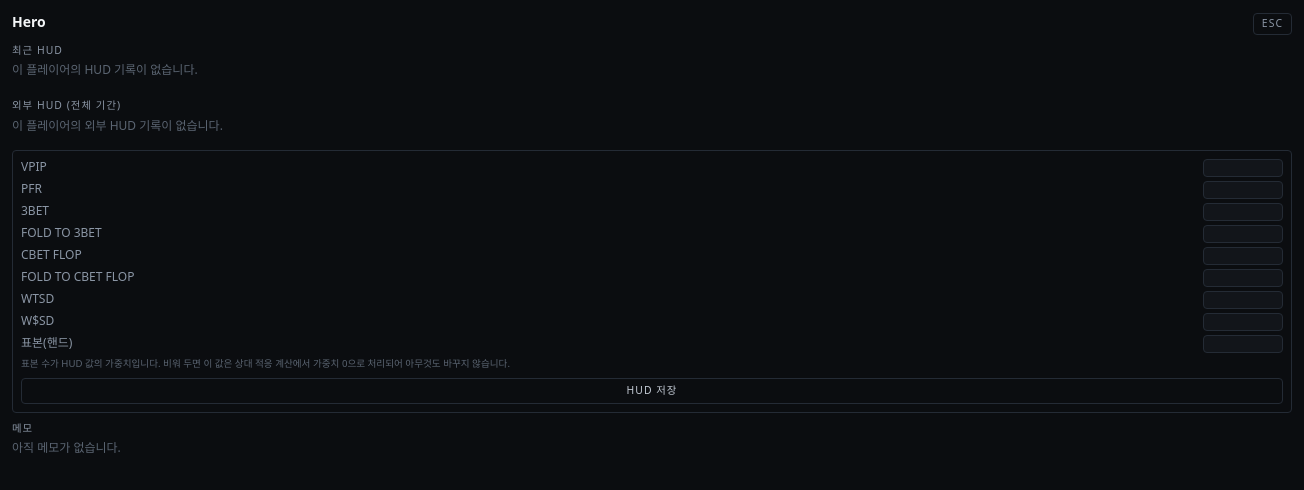
PlayerProfilePanel › shows an inline error and does not lose the entered text on a validation failure
expect the form with test id "hud-edit-form" is shown: met, box [12, 150, 1292, 413]
Type "nope" into the field with test id "hud-input-VPIP".
click(1243, 168); type("nope")  # box [1203, 159, 1283, 177]
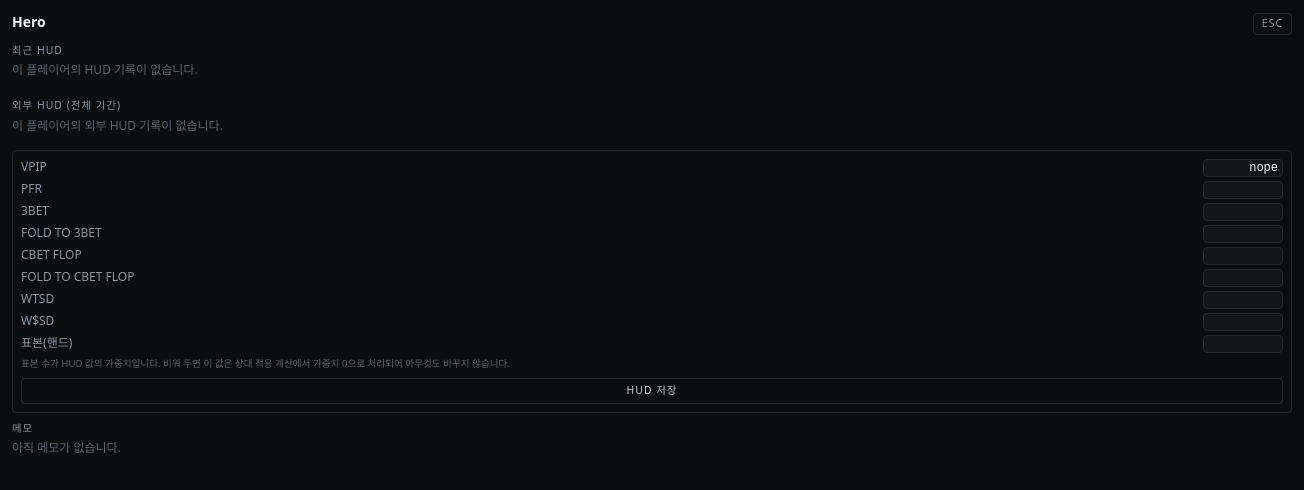
Click the button with test id "hud-save-button".
click(652, 391)  # box [21, 378, 1283, 404]
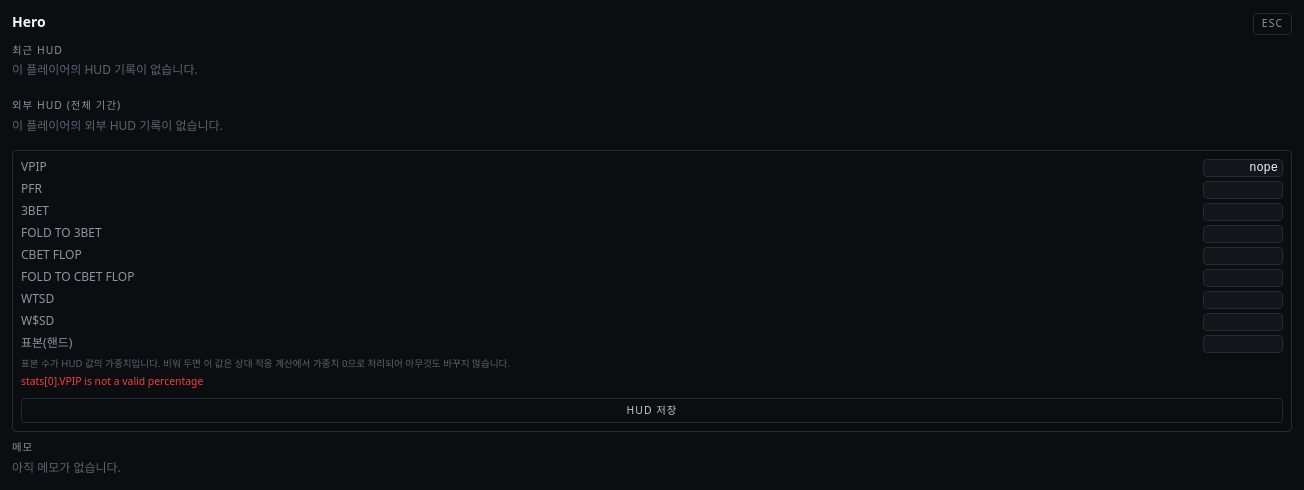
expect the text with test id "hud-error" shows "valid percentage": met, box [21, 374, 203, 388]
